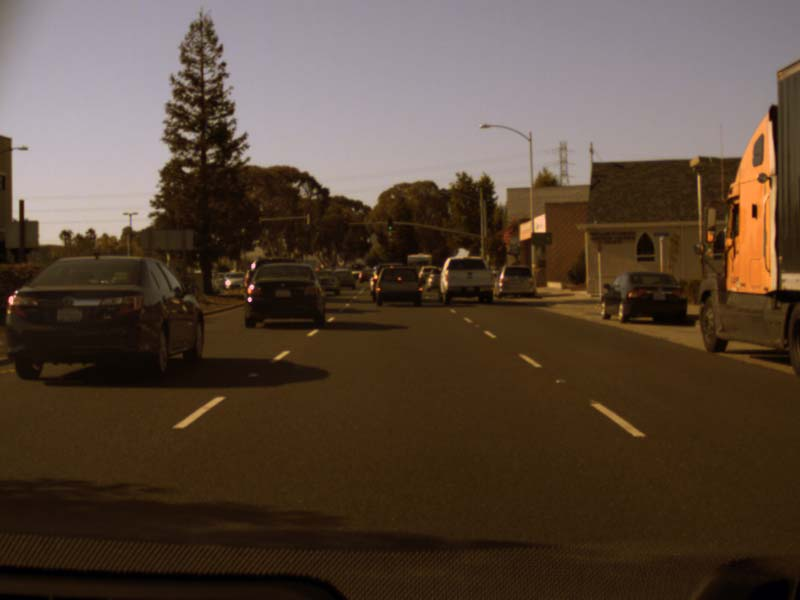Green: (388, 216, 392, 229)
Red: (342, 219, 348, 230)
